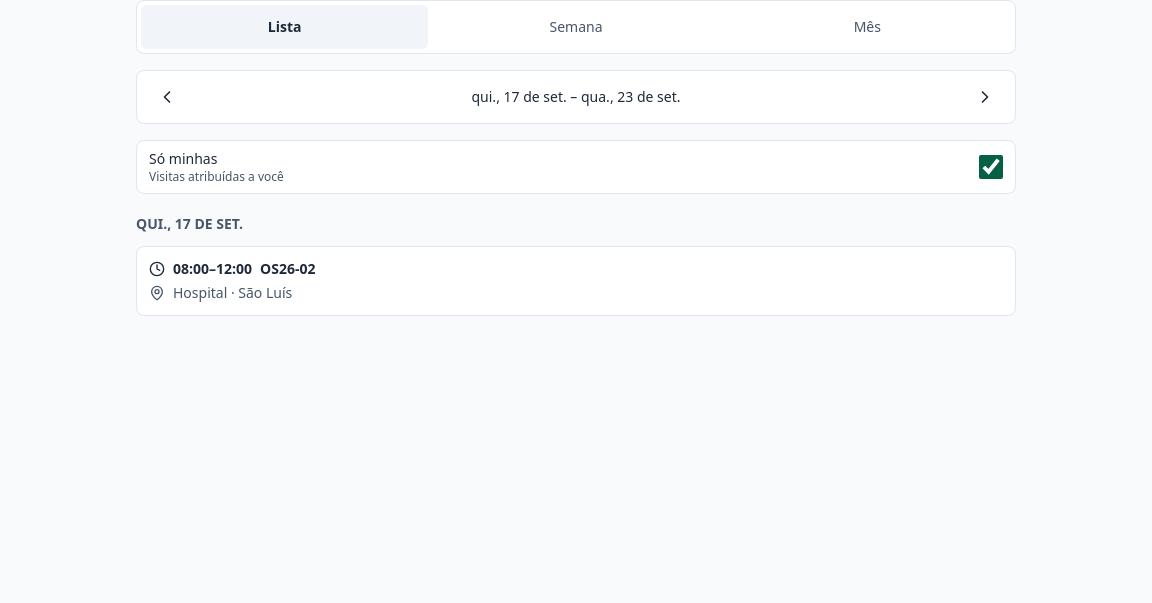
Test: Modo Mês › visita armada na Semana continua anunciada depois de trocar para o Mês
The image size is (1152, 603).
What coordinates should you click on to do the following:
click the button "Semana"
I would click on:
 (576, 27)
Its box is [432,5,720,49].
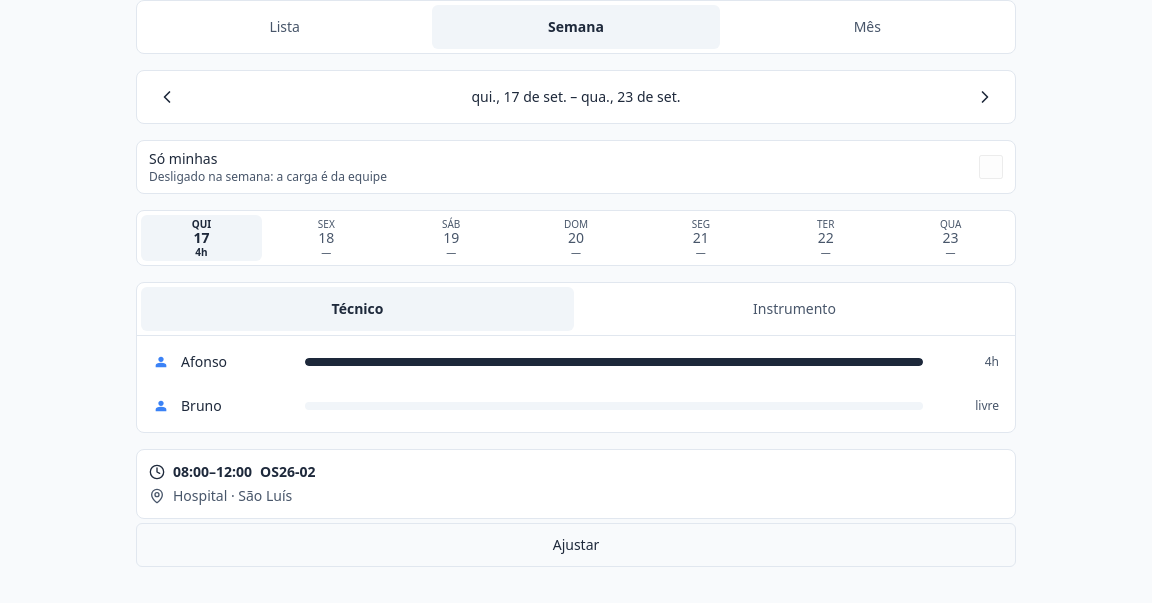
What coordinates should you click on to do the following:
click the button "Ajustar"
I would click on:
 (576, 544)
Its box is [136,522,1016,566].
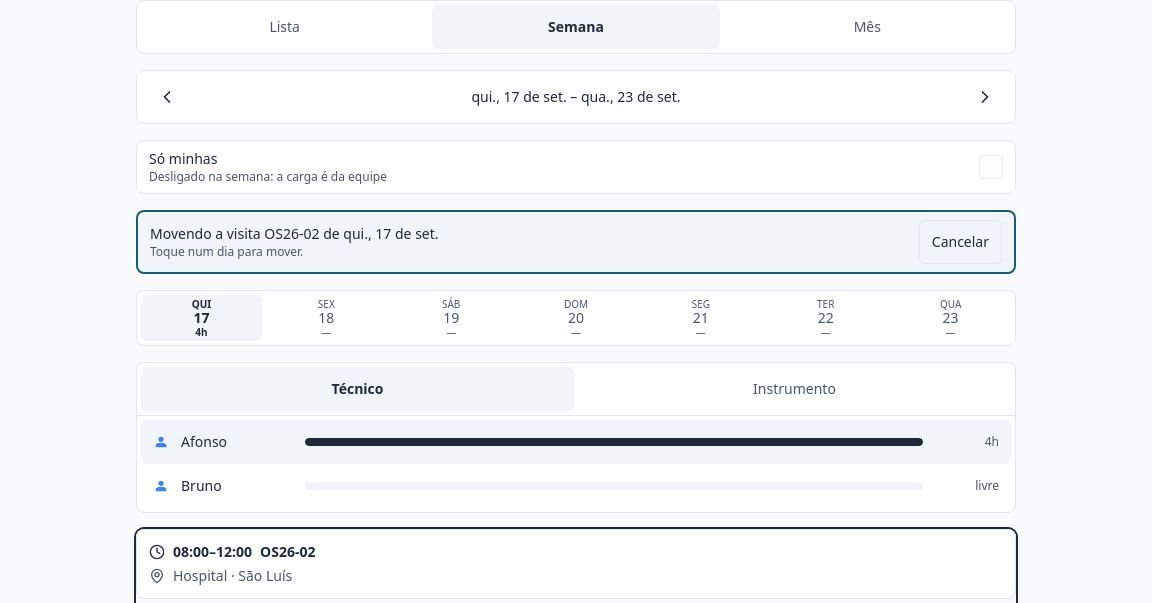
Check: the text "Movendo a visita OS26-02" is shown, box [150,224,439,260]
What coordinates should you click on to do the following:
click the button "Mês"
I would click on:
 (867, 27)
Its box is [724,5,1011,49].
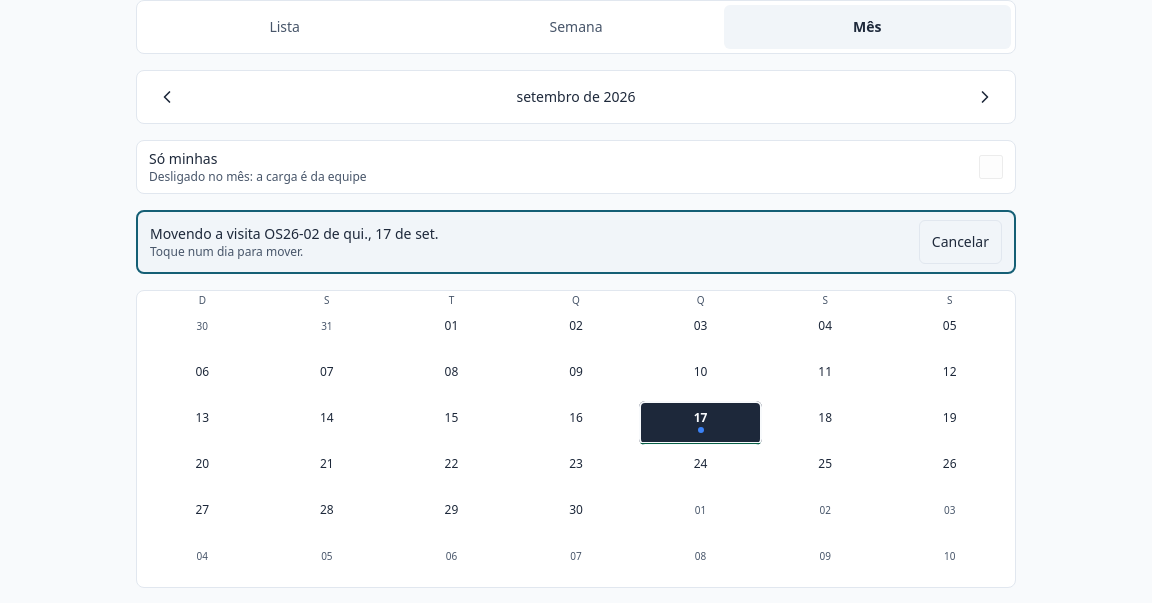
Check: the text "Movendo a visita OS26-02" is shown, box [150,224,439,260]
Check: the text "setembro de 2026" is shown, box [516,87,636,107]
